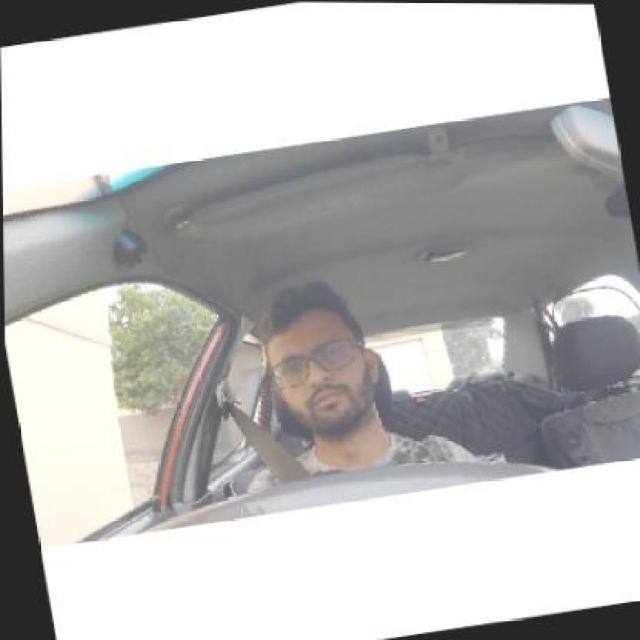person: (256, 303, 385, 432)
